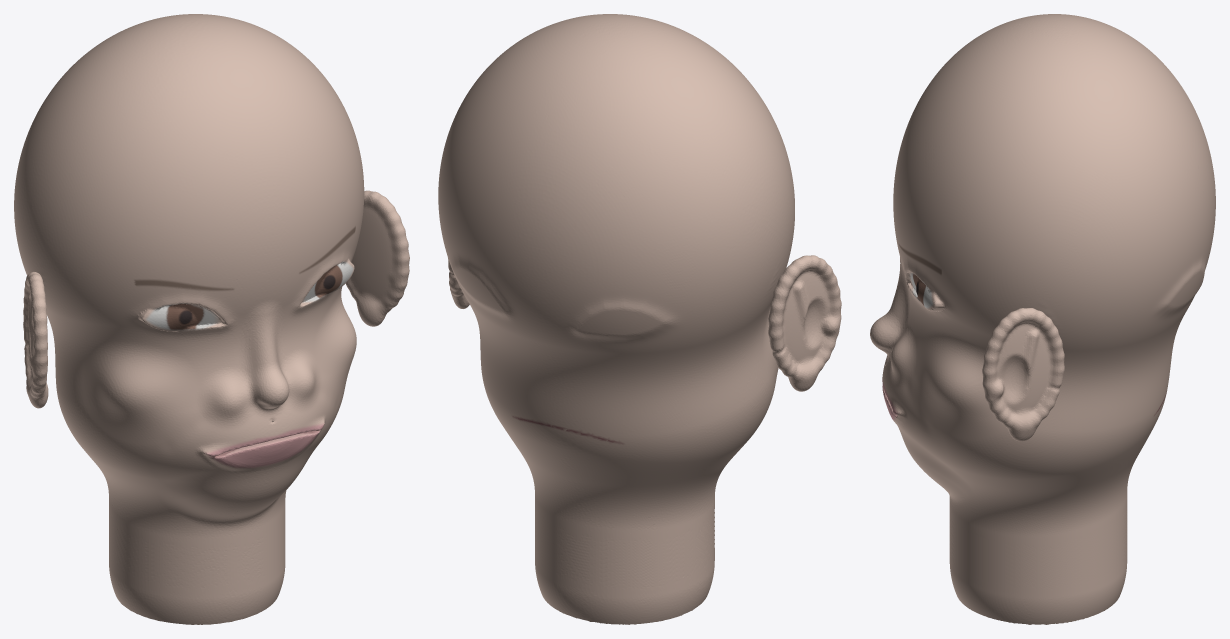
The model's file is karma_face_stage1_S_neutral_EXPERIMENT.glb.
The picture shows the model from 3 angles, left to right: view 1: azimuth 30°, elevation 25°; view 2: azimuth 150°, elevation 25°; view 3: azimuth 270°, elevation 25°; orthographic projection.
Parts seen in each view (by area): view 1: head; view 2: head; view 3: head.
Part boxes in pixels (left/top/right/bottom): head: left=14, top=14, right=409, bottom=624; head: left=438, top=14, right=841, bottom=624; head: left=870, top=14, right=1215, bottom=624.
Bounding box in the file's own units: 2.7 × 3.83 × 2.14.
